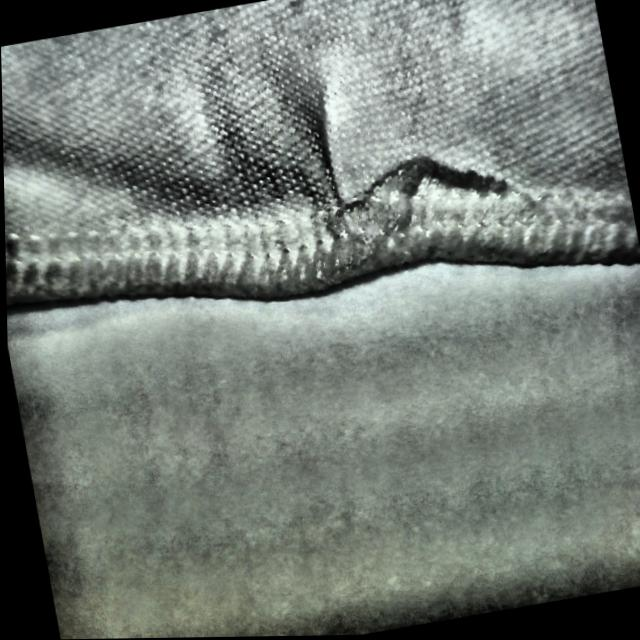seam: (281, 82, 511, 296)
